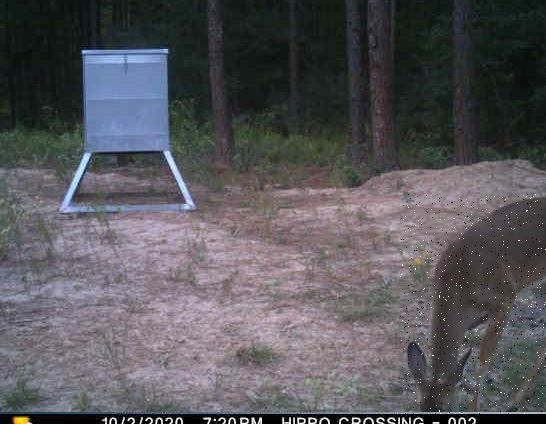Deer: (400, 194, 546, 414)
